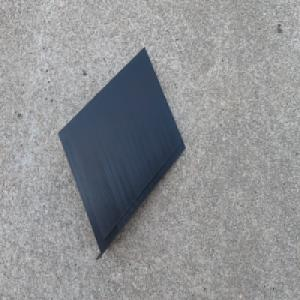PlasticPart: (57, 46, 186, 257)
